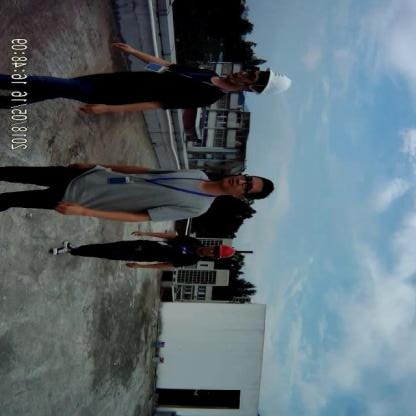red: (212, 242, 239, 266)
white: (251, 61, 296, 100)
